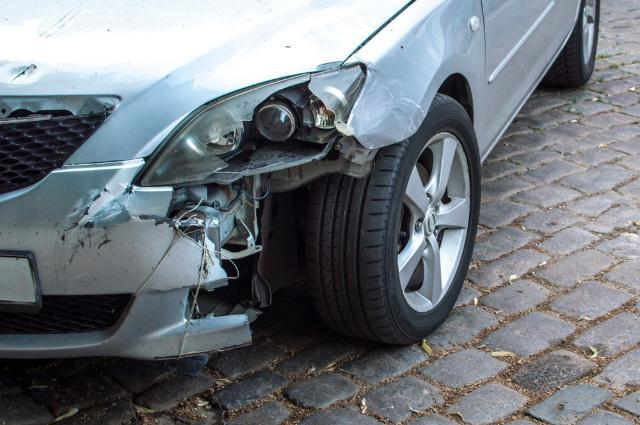dent: (0, 61, 42, 82)
lamp broken: (140, 64, 369, 190)
no part: (169, 126, 367, 343)
scratch: (47, 185, 125, 273), (350, 66, 427, 146)
